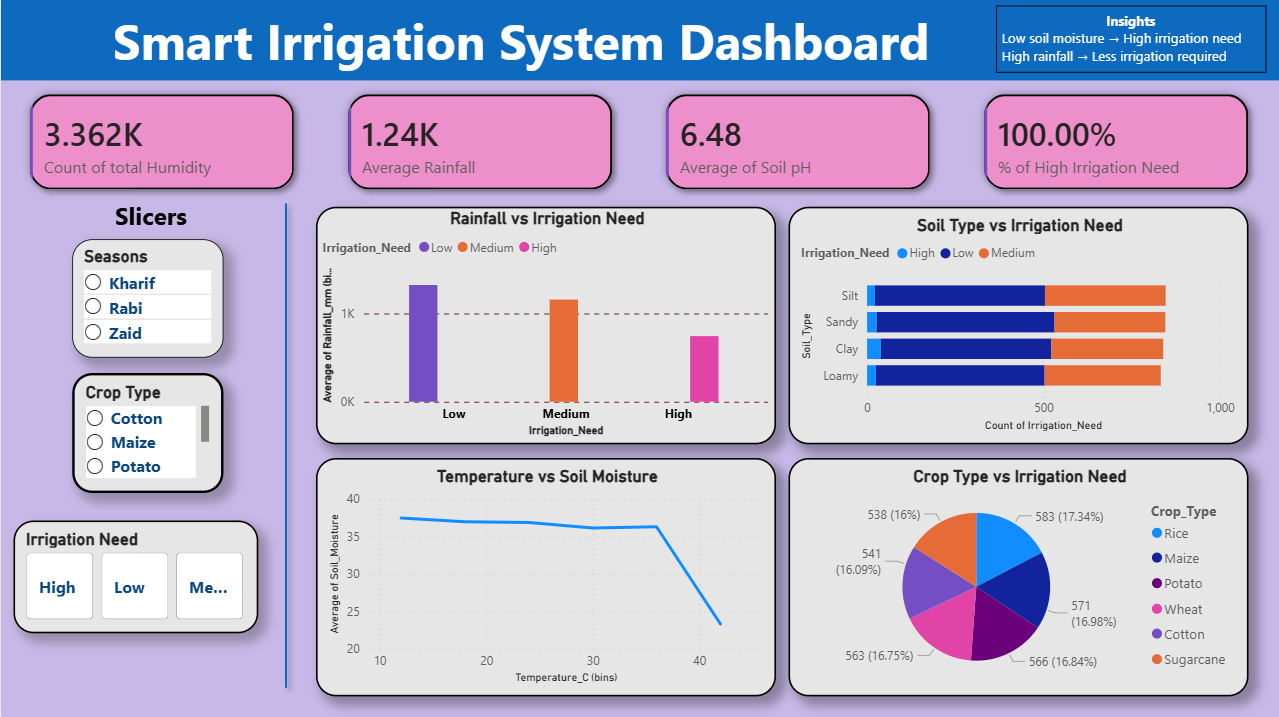

What the dashboard file says about the page in this screenshot:
{"tool":"powerbi","page":{"name":"Page 1","canvas":[1280,720],"ordinal":0},"visuals":[{"type":"clusteredColumnChart","title":"Rainfall vs Irrigation Need","fields":{"Series":["irrigation_prediction.Irrigation_Need"],"Category":["irrigation_prediction.Irrigation_Need"],"Y":["Avg(irrigation_prediction.Rainfall_mm (bins))"]},"box":[315.6,208.6,459.7,237.4],"z":0},{"type":"shape","box":[0,0,1280,82.5],"z":1000},{"type":"cardVisual","fields":{"Data":["CountNonNull(irrigation_prediction.Humidity)","Avg(irrigation_prediction.Rainfall_mm)","Avg(irrigation_prediction.Soil_pH)","Sum(irrigation_prediction.High_Irrigation_Percentage)"]},"box":[0,67.9,1279.8,153.6],"z":2000},{"type":"barChart","title":"Soil Type vs Irrigation Need","fields":{"Category":["irrigation_prediction.Soil_Type"],"Y":["CountNonNull(irrigation_prediction.Irrigation_Need)"],"Series":["irrigation_prediction.Irrigation_Need"]},"box":[787.7,208.6,459.7,237.4],"z":3000},{"type":"lineChart","title":"Temperature vs Soil Moisture","fields":{"Y":["Avg(irrigation_prediction.Soil_Moisture)"],"Category":["irrigation_prediction.Temperature_C (bins)"]},"box":[315.6,459.7,459.7,238.8],"z":4000},{"type":"pieChart","title":"Crop Type vs Irrigation Need","fields":{"Category":["irrigation_prediction.Crop_Type"],"Y":["CountNonNull(irrigation_prediction.Irrigation_Need)"]},"box":[787.5,460,460,238.8],"z":5000},{"type":"listSlicer","fields":{"Values":["irrigation_prediction.Season"]},"box":[71.2,241.2,151.2,118.8],"z":6000},{"type":"listSlicer","fields":{"Values":["irrigation_prediction.Crop_Type"]},"box":[71.2,375,151.2,120],"z":7000},{"type":"advancedSlicerVisual","fields":{"Values":["irrigation_prediction.Irrigation_Need"]},"box":[12.5,522.5,245,112.5],"z":8000},{"type":"textbox","box":[0,196.2,300,45],"z":9000},{"type":"shape","box":[267.9,196.4,32.1,502.4],"z":10000},{"type":"textbox","box":[995,7.5,270,67.5],"z":11000}]}

Visuals, with their boxes in screenshot pixels (x1, y1, x2, y2), scaled from the page's 1280x720 canvas onto the 1279x717 screenshot:
"Rainfall vs Irrigation Need" clusteredColumnChart: (315,208,775,444)
shape: (0,0,1278,82)
cardVisual - CountNonNull(irrigation_prediction.Humidity) x Avg(irrigation_prediction.Rainfall_mm): (0,68,1278,221)
"Soil Type vs Irrigation Need" barChart: (787,208,1246,444)
"Temperature vs Soil Moisture" lineChart: (315,458,775,696)
"Crop Type vs Irrigation Need" pieChart: (787,458,1247,696)
listSlicer - irrigation_prediction.Season: (71,240,222,358)
listSlicer - irrigation_prediction.Crop_Type: (71,373,222,493)
advancedSlicerVisual - irrigation_prediction.Irrigation_Need: (12,520,257,632)
textbox: (0,195,300,240)
shape: (268,196,300,696)
textbox: (994,7,1264,75)
